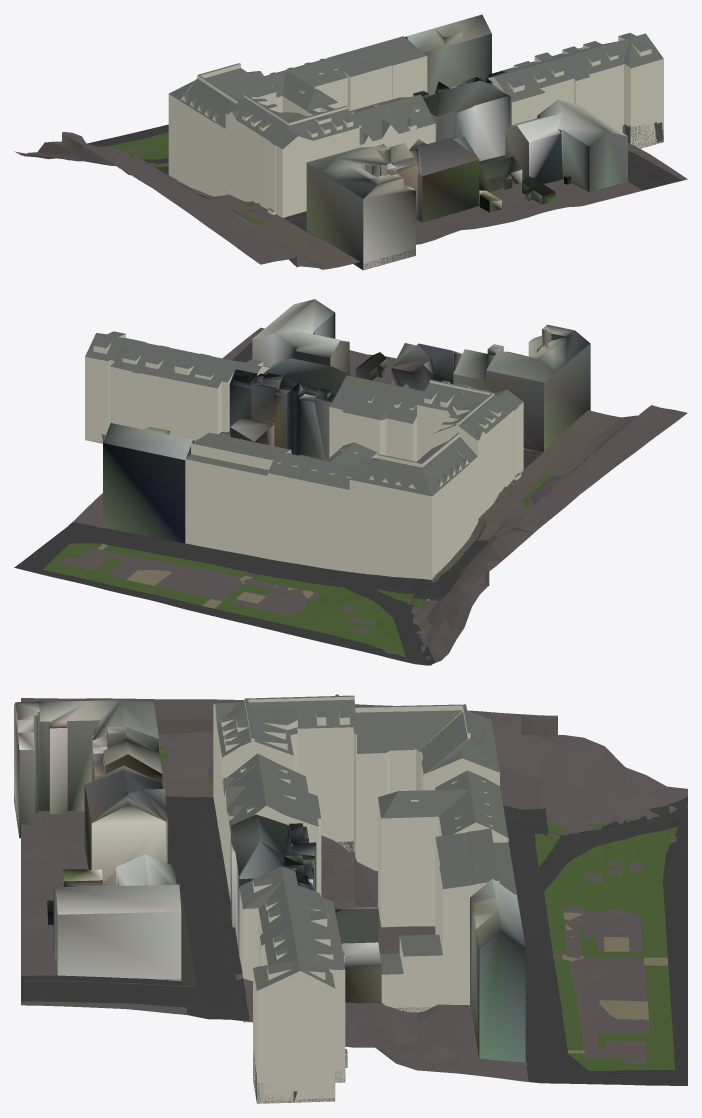
3 renders of one model, top to bottom at view 1: azimuth 30°, elevation 25°; view 2: azimuth 150°, elevation 25°; view 3: azimuth 270°, elevation 25°, orthographic. The views are drawn at different scales.
Parts seen in each view (by area): view 1: c_p01_m06; view 2: c_p01_m06; view 3: c_p01_m06.
Part boxes in pixels (x1,y1,x2,y2): c_p01_m06: (14,14,687,270); c_p01_m06: (14,299,687,665); c_p01_m06: (14,694,687,1103).
Bounding box in the file's own units: 147 × 37.9 × 129.
